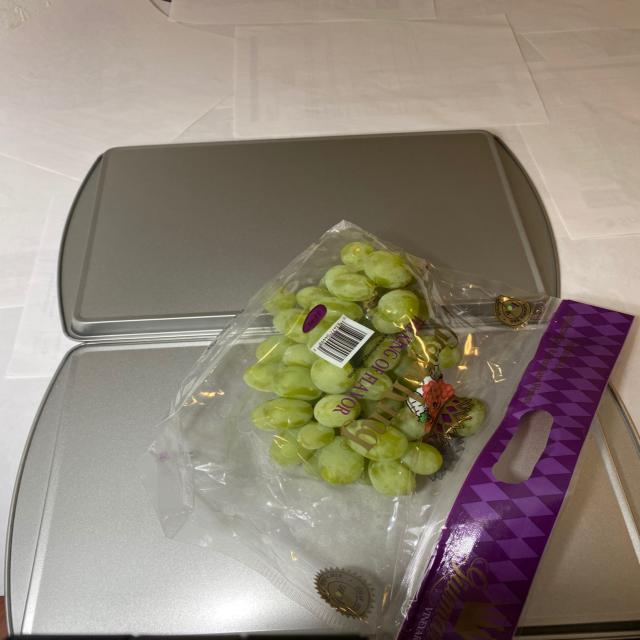grapes: (240, 234, 494, 502)
